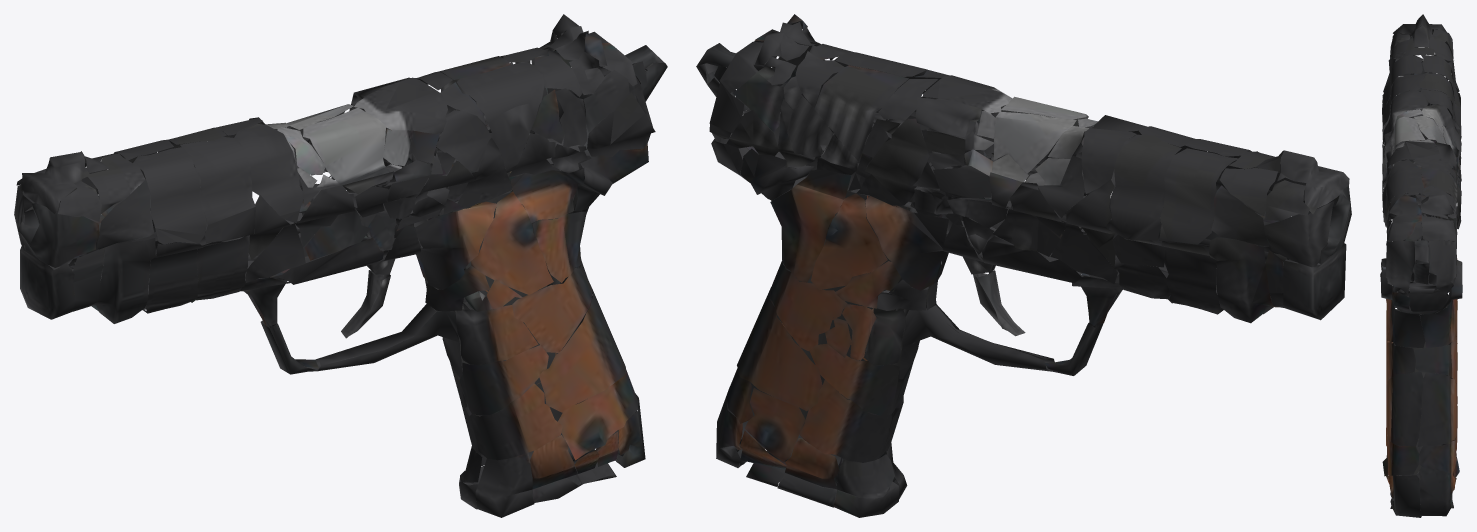
File: hg-meshy-low.glb
The picture shows the model from 3 angles, left to right: view 1: azimuth 30°, elevation 25°; view 2: azimuth 150°, elevation 25°; view 3: azimuth 270°, elevation 25°; orthographic projection. The views are drawn at different scales.
Parts seen in each view (by area): view 1: Mesh_0.008; view 2: Mesh_0.008; view 3: Mesh_0.008.
Boxes of the visible parts, x1,y1,x2,y2 form: Mesh_0.008: (14, 14, 667, 517); Mesh_0.008: (696, 14, 1351, 517); Mesh_0.008: (1380, 14, 1462, 517).
Bounding box in the file's own units: 1.91 × 1.3 × 0.3028.
Materials: 1 (1 with a texture image).
